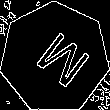M_SW: (22, 24, 88, 92)
